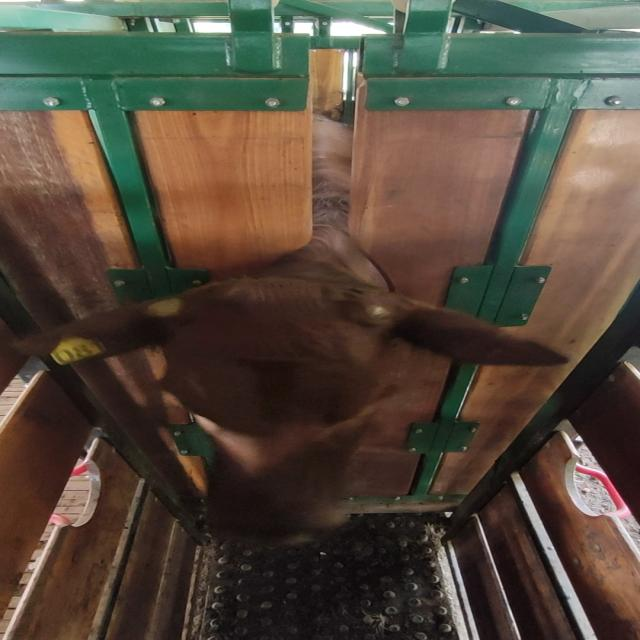cowFace: (162, 282, 396, 548)
